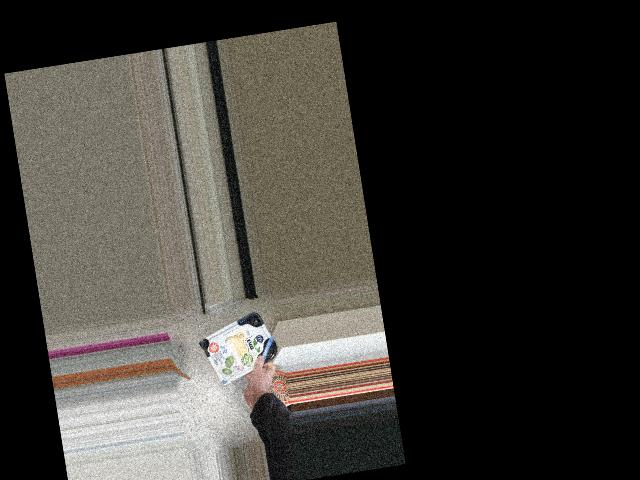cheese: (204, 319, 273, 379)
